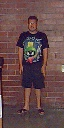person: (20, 19, 52, 120)
